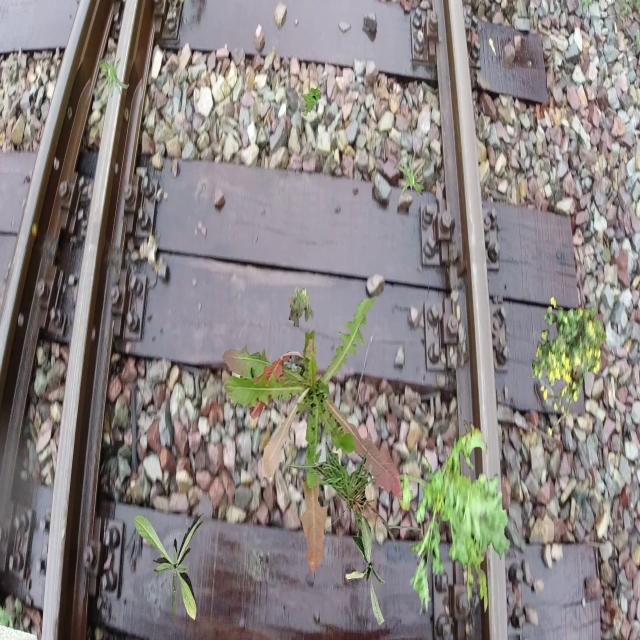Plant: (222, 297, 402, 575), (386, 420, 511, 616), (278, 442, 422, 562), (532, 296, 607, 436), (134, 513, 206, 621), (346, 516, 386, 626), (97, 57, 130, 103), (393, 151, 426, 197), (289, 285, 315, 328), (302, 84, 322, 116)
